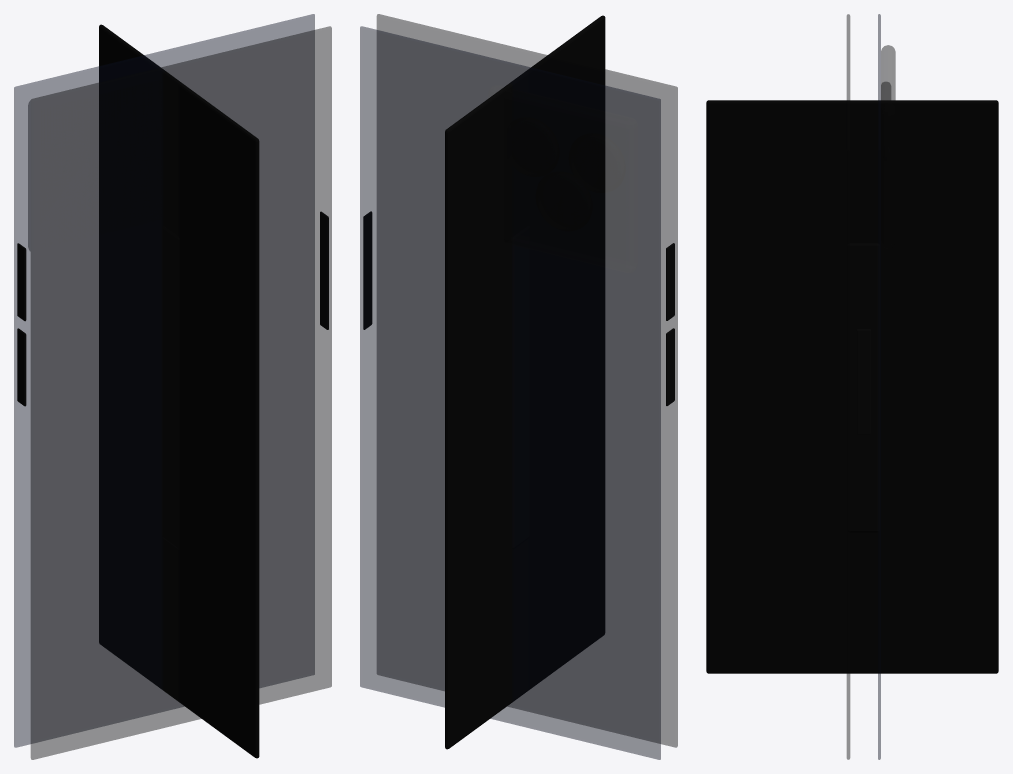
File: iPhone_18_Pro__drawn_.obj
The picture shows the model from 3 angles, left to right: view 1: azimuth 30°, elevation 25°; view 2: azimuth 150°, elevation 25°; view 3: azimuth 270°, elevation 25°; orthographic projection. The views are drawn at different scales.
Visible parts, largest first — view 1: glass.front, glass.back, display.panel, chassis.rail, button.side, button.volume_1, button.volume_2; view 2: glass.back, glass.front, display.panel, camera.island, chassis.rail, lens.1, lens.3, lens.2, button.side, button.volume_1, button.volume_2; view 3: display.panel, chassis.rail, camera.island, glass.front, glass.back, button.side.
Part boxes in pixels (x1=…): glass.front: x1=31, y1=26, x2=331, y2=759; glass.back: x1=14, y1=14, x2=314, y2=747; display.panel: x1=99, y1=24, x2=259, y2=758; chassis.rail: x1=162, y1=226, x2=179, y2=549; button.side: x1=320, y1=211, x2=328, y2=329; button.volume_1: x1=17, y1=328, x2=26, y2=406; button.volume_2: x1=17, y1=243, x2=26, y2=321; glass.back: x1=360, y1=26, x2=660, y2=759; glass.front: x1=377, y1=14, x2=677, y2=747; display.panel: x1=445, y1=15, x2=605, y2=749; camera.island: x1=488, y1=85, x2=637, y2=272; chassis.rail: x1=512, y1=226, x2=529, y2=549; lens.1: x1=569, y1=133, x2=625, y2=192; lens.3: x1=536, y1=171, x2=592, y2=230; lens.2: x1=507, y1=117, x2=559, y2=176; button.side: x1=363, y1=211, x2=372, y2=329; button.volume_1: x1=666, y1=328, x2=674, y2=405; button.volume_2: x1=666, y1=243, x2=674, y2=320; display.panel: x1=706, y1=100, x2=998, y2=673; chassis.rail: x1=847, y1=243, x2=879, y2=532; camera.island: x1=881, y1=45, x2=895, y2=248; glass.front: x1=847, y1=14, x2=849, y2=759; glass.back: x1=878, y1=14, x2=880, y2=759; button.side: x1=856, y1=329, x2=870, y2=434.
Size of the model in its own units: 0.0786 by 0.163 by 0.0706.
